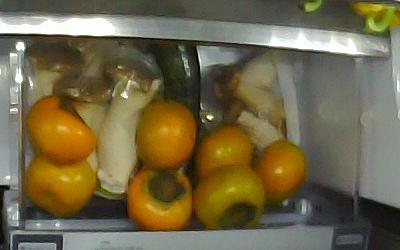persimmon: (26, 96, 96, 167), (194, 165, 266, 226), (27, 152, 95, 215), (136, 101, 197, 170), (127, 166, 193, 228), (254, 141, 308, 198), (196, 124, 255, 175)
